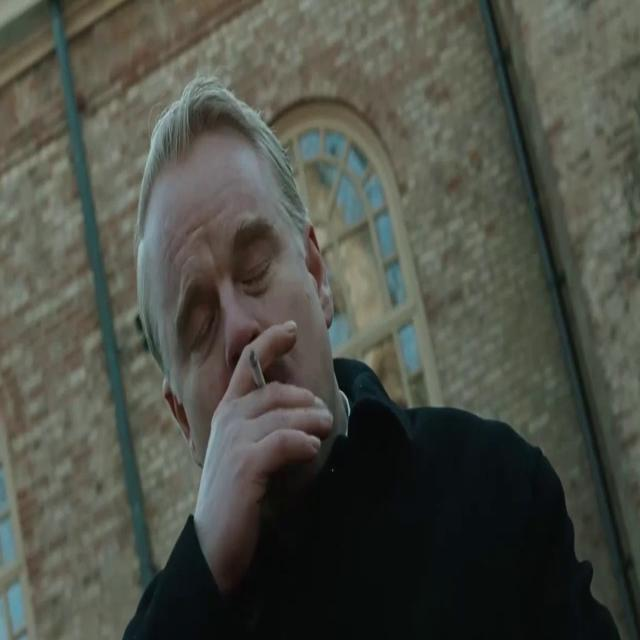Smooking: (238, 341, 272, 383)
